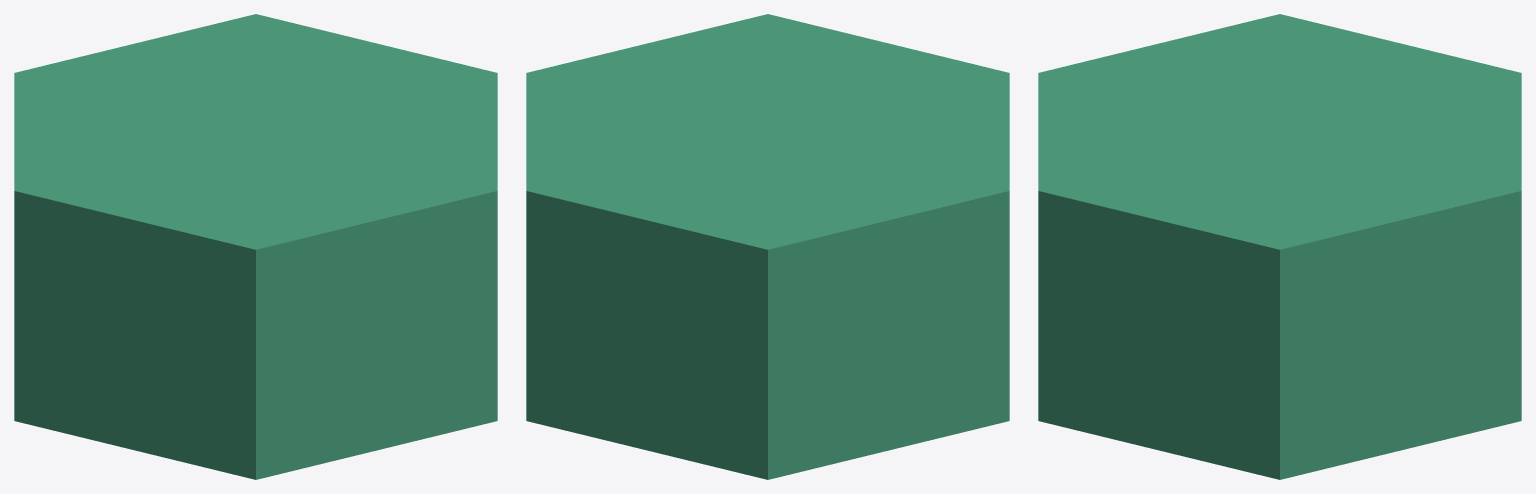
Rendered from Gaia_Water.fbx.
The picture shows the model from 3 angles, left to right: view 1: azimuth 30°, elevation 25°; view 2: azimuth 150°, elevation 25°; view 3: azimuth 270°, elevation 25°; orthographic projection.
Visible parts, largest first — view 1: Model; view 2: Model; view 3: Model.
Boxes of the visible parts, x1,y1,x2,y2 form: Model: [14, 14, 497, 479]; Model: [526, 14, 1009, 479]; Model: [1038, 14, 1521, 479].
Bounding box in the file's own units: 6 × 2.73 × 5.2.
